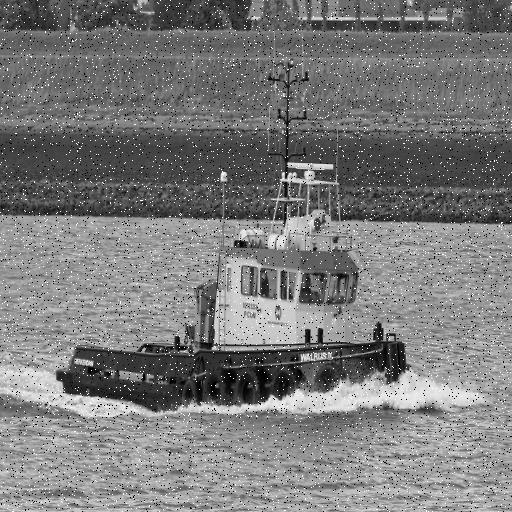tugboat: (54, 160, 418, 427)
